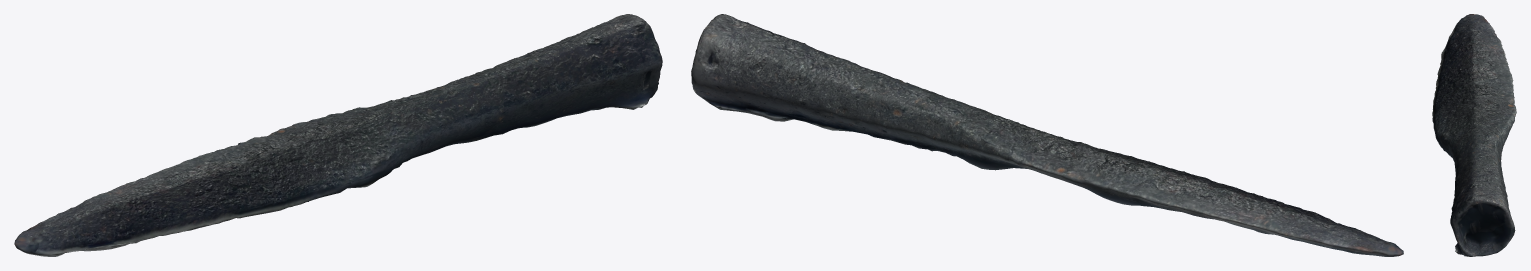
File: nakonech.glb
3 renders of one model, left to right at view 1: azimuth 30°, elevation 25°; view 2: azimuth 150°, elevation 25°; view 3: azimuth 270°, elevation 25°, orthographic. The views are drawn at different scales.
Parts seen in each view (by area): view 1: ObjectCapture; view 2: ObjectCapture; view 3: ObjectCapture.
Boxes of the visible parts, x1,y1,x2,y2 form: ObjectCapture: (14, 14, 662, 256); ObjectCapture: (691, 14, 1403, 256); ObjectCapture: (1432, 14, 1516, 256).
Size of the model in its own units: 0.3592 by 0.0445 by 0.0531.
Materials: 1 (1 with a texture image).
